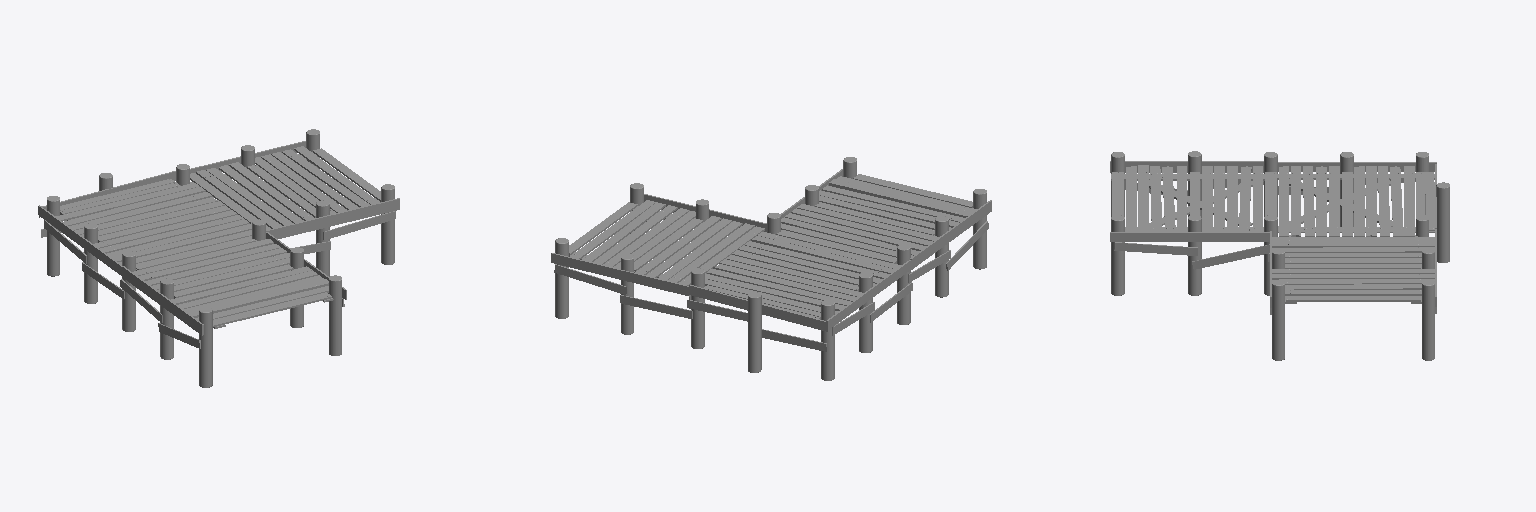
Rendered from Turn_Bridge_blend.obj.
The picture shows the model from 3 angles: view 1: azimuth 30°, elevation 25°; view 2: azimuth 150°, elevation 25°; view 3: azimuth 270°, elevation 25°; orthographic projection.
Visible parts, largest first — view 1: Cube.054_Cube.004, Cylinder.008_Cylinder, Cube.027_Cube.004, Cylinder.009_Cylinder, Cube.028_Cube.004, Cube.013_Cube.002, Cube.024_Cube.002, Cube.003, Cube.020_Cube.003, Cube.004_Cube.005, Cube.015_Cube.003, Cube.019_Cube.005 (+28 smaller); view 2: Cube.053_Cube.004, Cube.068_Cube.004, Cylinder.003_Cylinder, Cube.013_Cube.002, Cube.027_Cube.004, Cube.028_Cube.004, Cube.001_Cube.002, Cylinder.006_Cylinder, Cube.022_Cube.002, Cube.008_Cube.002, Cylinder.011_Cylinder, Cube.021_Cube.004 (+28 smaller); view 3: Cube.025_Cube.004, Cylinder.003_Cylinder, Cylinder.010_Cylinder, Cylinder.011_Cylinder, Cube.063_Cube.002, Cylinder.009_Cylinder, Cube.056_Cube.002, Cube.059_Cube.005, Cube.066_Cube.005, Cube.055_Cube.001, Cube.064_Cube.004, Cube.060_Cube.004 (+28 smaller).
Boxes of the visible parts, x1,y1,x2,y2 form: Cube.054_Cube.004: [266, 198, 399, 238]; Cylinder.008_Cylinder: [199, 307, 212, 387]; Cube.027_Cube.004: [122, 266, 203, 335]; Cylinder.009_Cylinder: [329, 275, 341, 355]; Cube.028_Cube.004: [38, 205, 121, 275]; Cube.013_Cube.002: [188, 279, 328, 317]; Cube.024_Cube.002: [213, 292, 331, 326]; Cube.003: [100, 215, 243, 253]; Cube.020_Cube.003: [64, 187, 205, 225]; Cube.004_Cube.005: [94, 210, 237, 248]; Cube.015_Cube.003: [178, 270, 317, 308]; Cube.019_Cube.005: [55, 183, 199, 221]; Cube.053_Cube.004: [551, 253, 689, 296]; Cube.068_Cube.004: [689, 285, 828, 331]; Cylinder.003_Cylinder: [748, 292, 761, 372]; Cube.013_Cube.002: [829, 179, 971, 217]; Cube.027_Cube.004: [910, 200, 991, 269]; Cube.028_Cube.004: [826, 260, 911, 329]; Cube.001_Cube.002: [751, 236, 895, 273]; Cylinder.006_Cylinder: [821, 300, 834, 380]; Cube.022_Cube.002: [713, 264, 857, 301]; Cube.008_Cube.002: [791, 208, 932, 245]; Cylinder.011_Cylinder: [555, 238, 568, 318]; Cube.021_Cube.004: [707, 269, 850, 305]; Cube.025_Cube.004: [1110, 232, 1269, 241]; Cylinder.003_Cylinder: [1436, 182, 1449, 262]; Cylinder.010_Cylinder: [1272, 280, 1284, 360]; Cylinder.011_Cylinder: [1422, 280, 1434, 360]; Cube.063_Cube.002: [1272, 241, 1434, 247]; Cylinder.009_Cylinder: [1111, 215, 1124, 295]; Cube.056_Cube.002: [1272, 274, 1434, 279]; Cube.059_Cube.005: [1285, 290, 1421, 295]; Cube.066_Cube.005: [1285, 258, 1421, 263]; Cube.055_Cube.001: [1272, 269, 1434, 273]; Cube.064_Cube.004: [1272, 247, 1434, 252]; Cube.060_Cube.004: [1286, 296, 1420, 301].
Size of the model in its own units: 17.52 by 4.59 by 18.6.